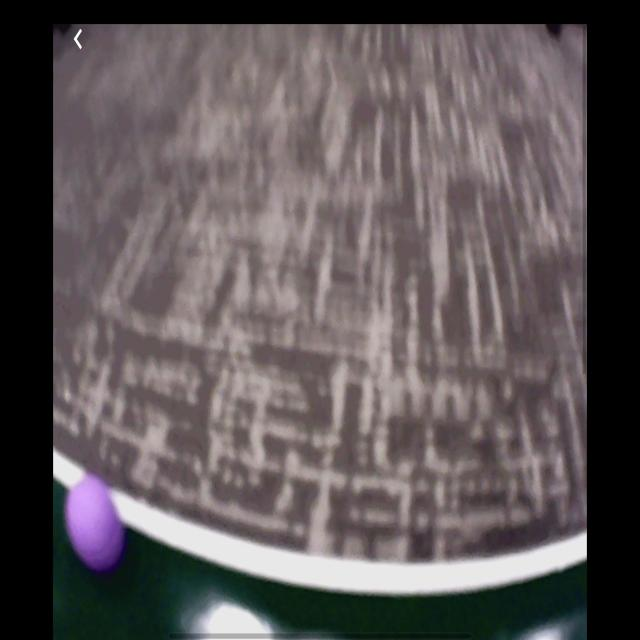ball: (64, 472, 126, 574)
